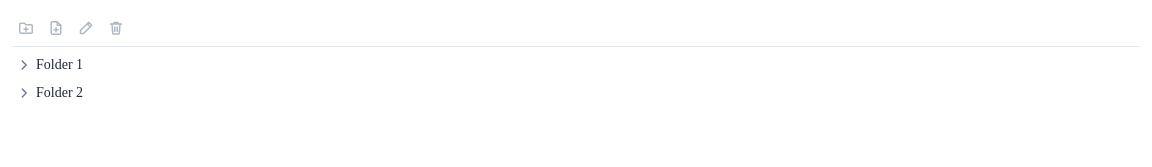
Direactree › moves the selection to a folder when that folder hides the selected child
This screenshot has width=1152, height=167.
Click the button without text next to "Folder 2" at point(24, 93), box [16,85,32,101]
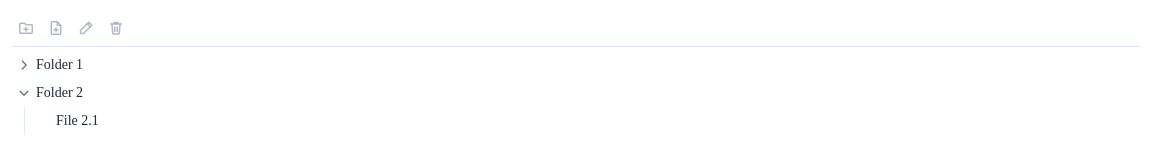
Click the list item "File 2.1" at point(77, 121), box [56,113,99,128]
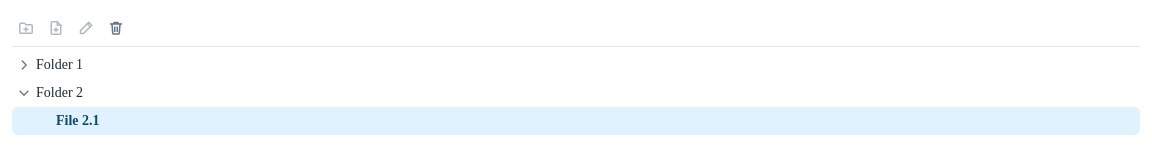
Click the button without text next to "Folder 2" at point(24, 93), box [16,85,32,101]
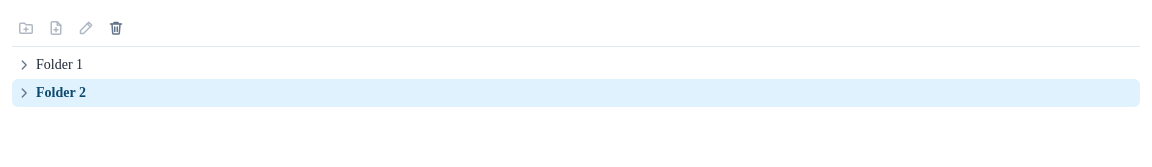
Expected: the text "File 2.1" is gone
Click the button named "Delete" at point(116, 28), box [102,14,130,42]
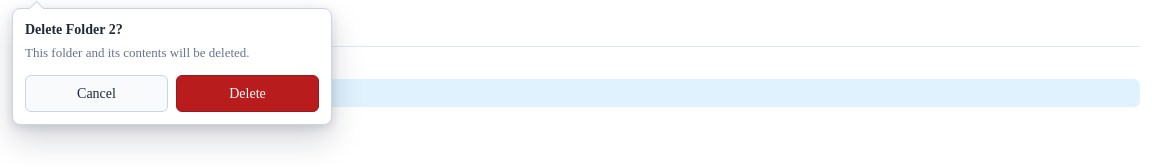
Expected: the element "Delete Folder 2?" is shown, [12,8,332,125]
